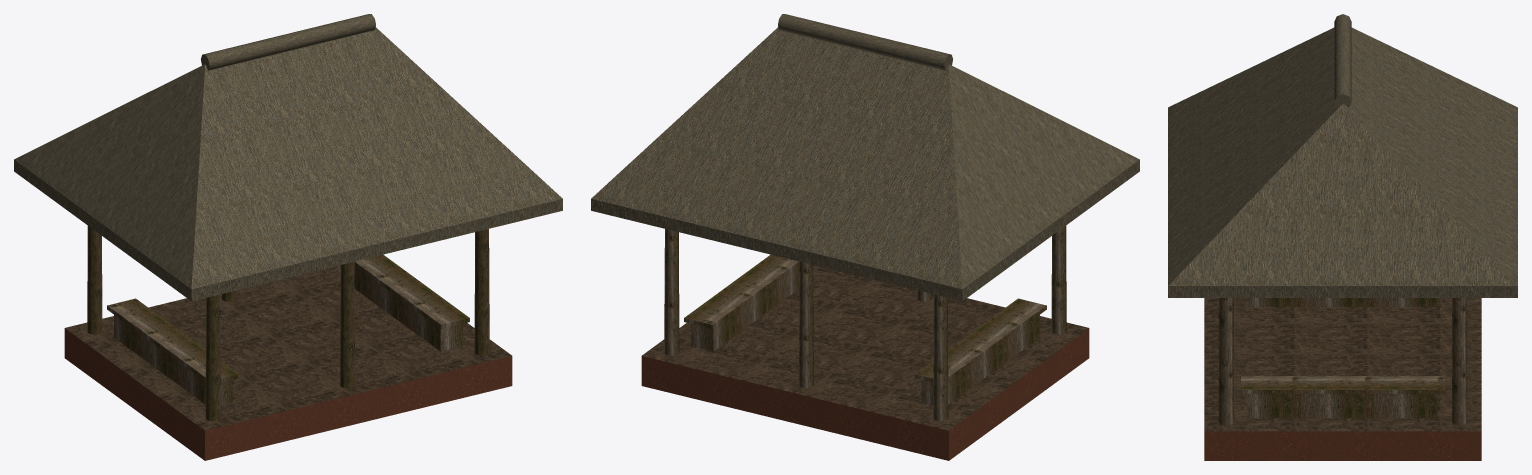
The model's file is ambalama.glb.
3 renders of one model, left to right at view 1: azimuth 30°, elevation 25°; view 2: azimuth 150°, elevation 25°; view 3: azimuth 270°, elevation 25°, orthographic.
Visible parts, largest first — view 1: ambalama; view 2: ambalama; view 3: ambalama.
Part boxes in pixels (left/top/right/bottom): ambalama: left=14, top=14, right=562, bottom=460; ambalama: left=591, top=14, right=1139, bottom=460; ambalama: left=1168, top=14, right=1517, bottom=460.
Size of the model in its own units: 5.8 by 5.04 by 4.8.
5 materials, 5 textured.
